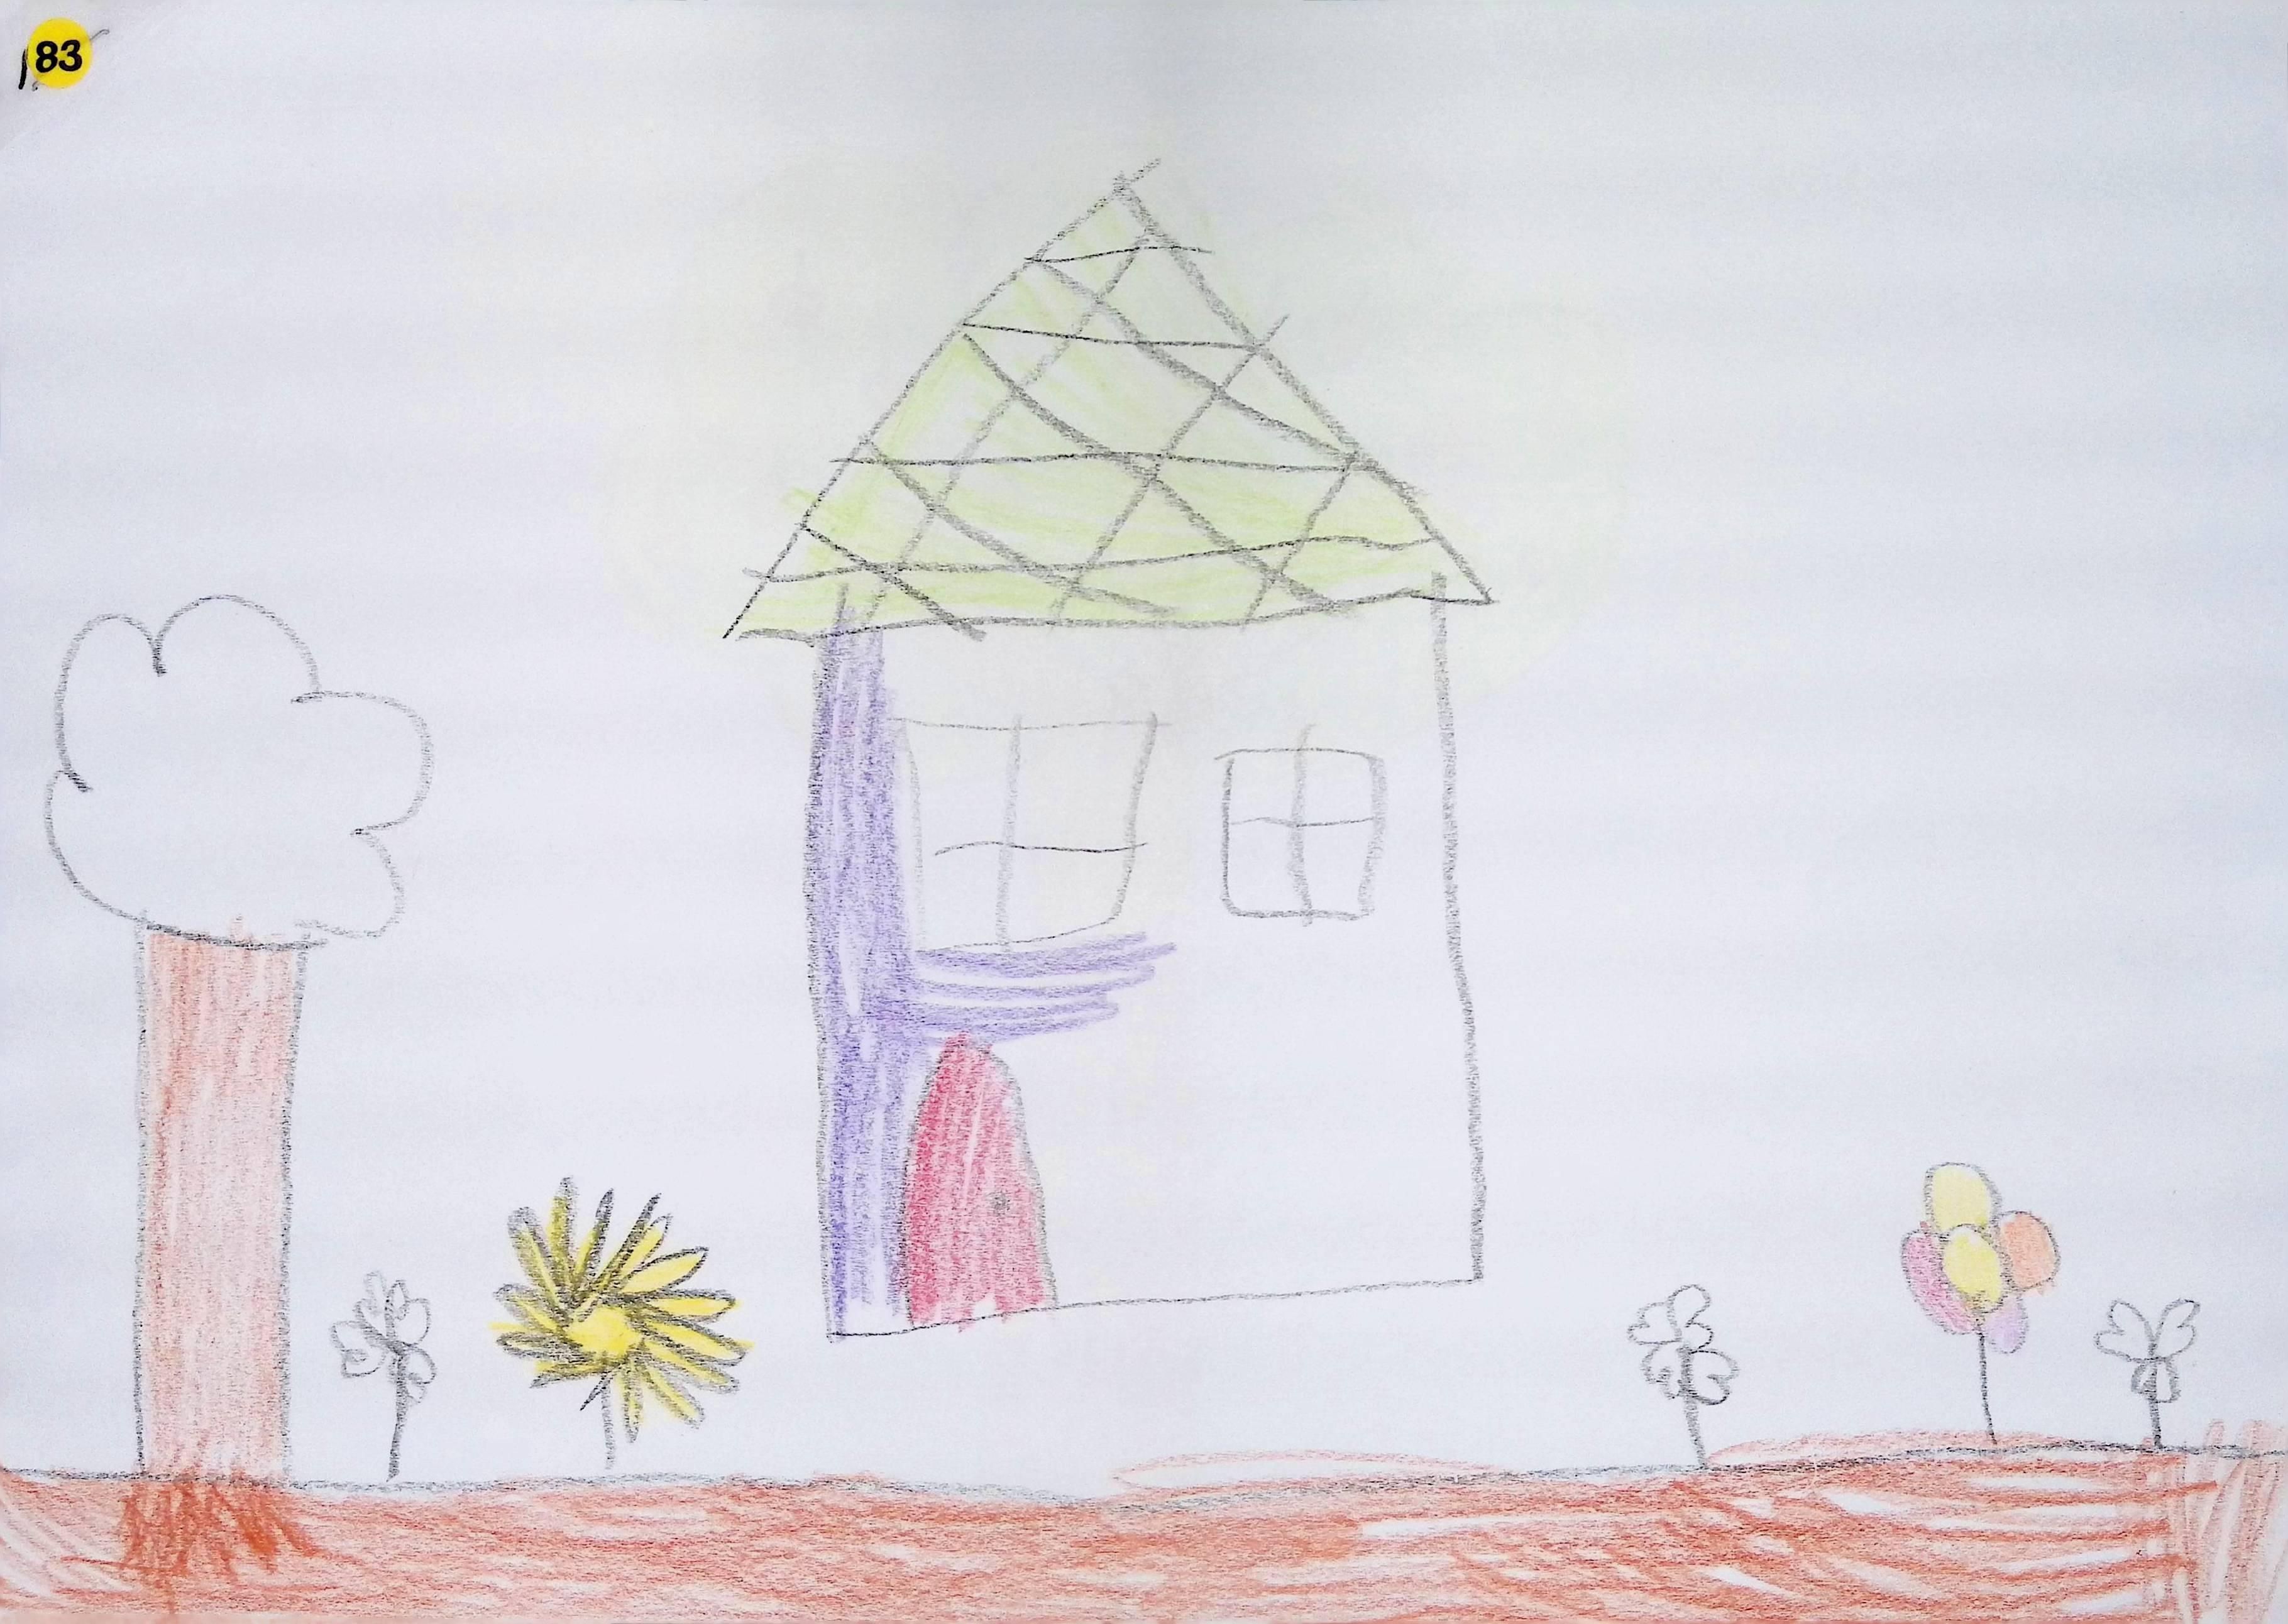door: (903, 1035, 1054, 1327)
house: (729, 176, 1488, 1338)
roof: (726, 174, 1490, 636)
wall: (807, 596, 1481, 1336)
window: (903, 715, 1158, 949), (1223, 735, 1387, 921)
